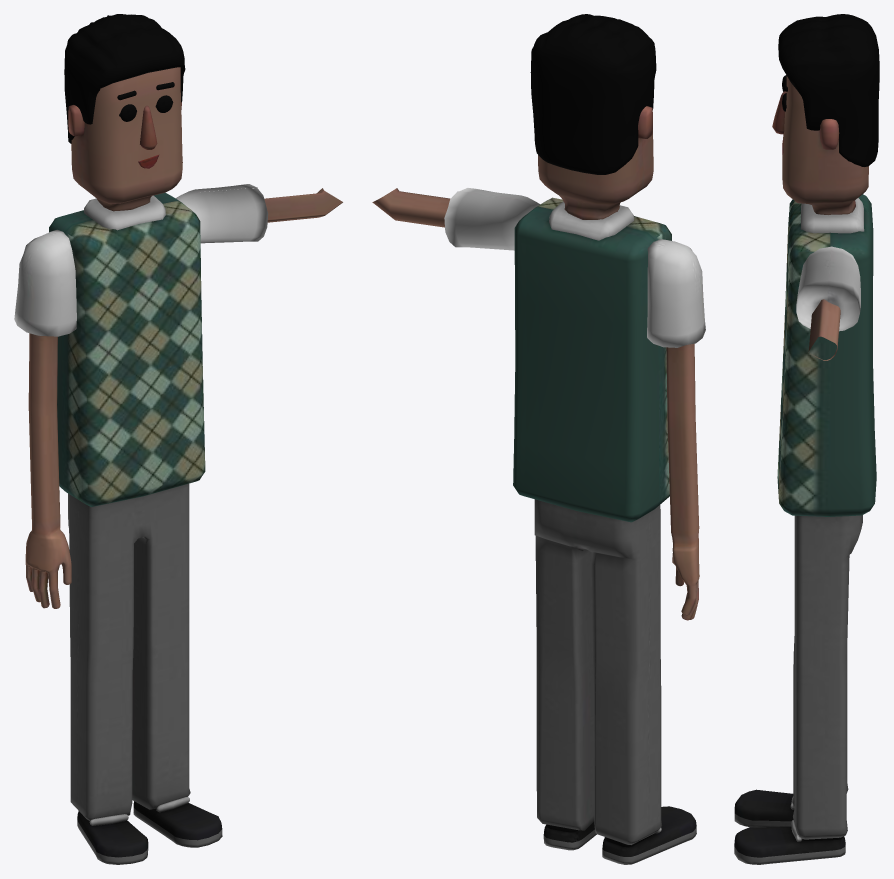
Rendered from KennyBase.gltf.
The picture shows the model from 3 angles, left to right: view 1: azimuth 30°, elevation 25°; view 2: azimuth 150°, elevation 25°; view 3: azimuth 270°, elevation 25°; orthographic projection. The views are drawn at different scales.
Visible parts, largest first — view 1: clothes, skin, hair, Arm; view 2: clothes, hair, skin, Arm; view 3: clothes, hair, skin, Arm.
Boxes of the visible parts, box(x1,y1,x2,y2) form: clothes: box(14, 184, 268, 864); skin: box(25, 67, 182, 608); hair: box(64, 14, 185, 143); Arm: box(264, 188, 342, 222); clothes: box(444, 188, 705, 864); hair: box(530, 14, 656, 174); skin: box(538, 106, 699, 620); Arm: box(372, 188, 450, 227); clothes: box(734, 194, 876, 864); hair: box(778, 14, 879, 166); skin: box(772, 76, 868, 214); Arm: box(808, 299, 840, 360).
Bounding box in the file's own units: 41.03 × 98.44 × 15.97.
Materials: 3 (2 with a texture image).
